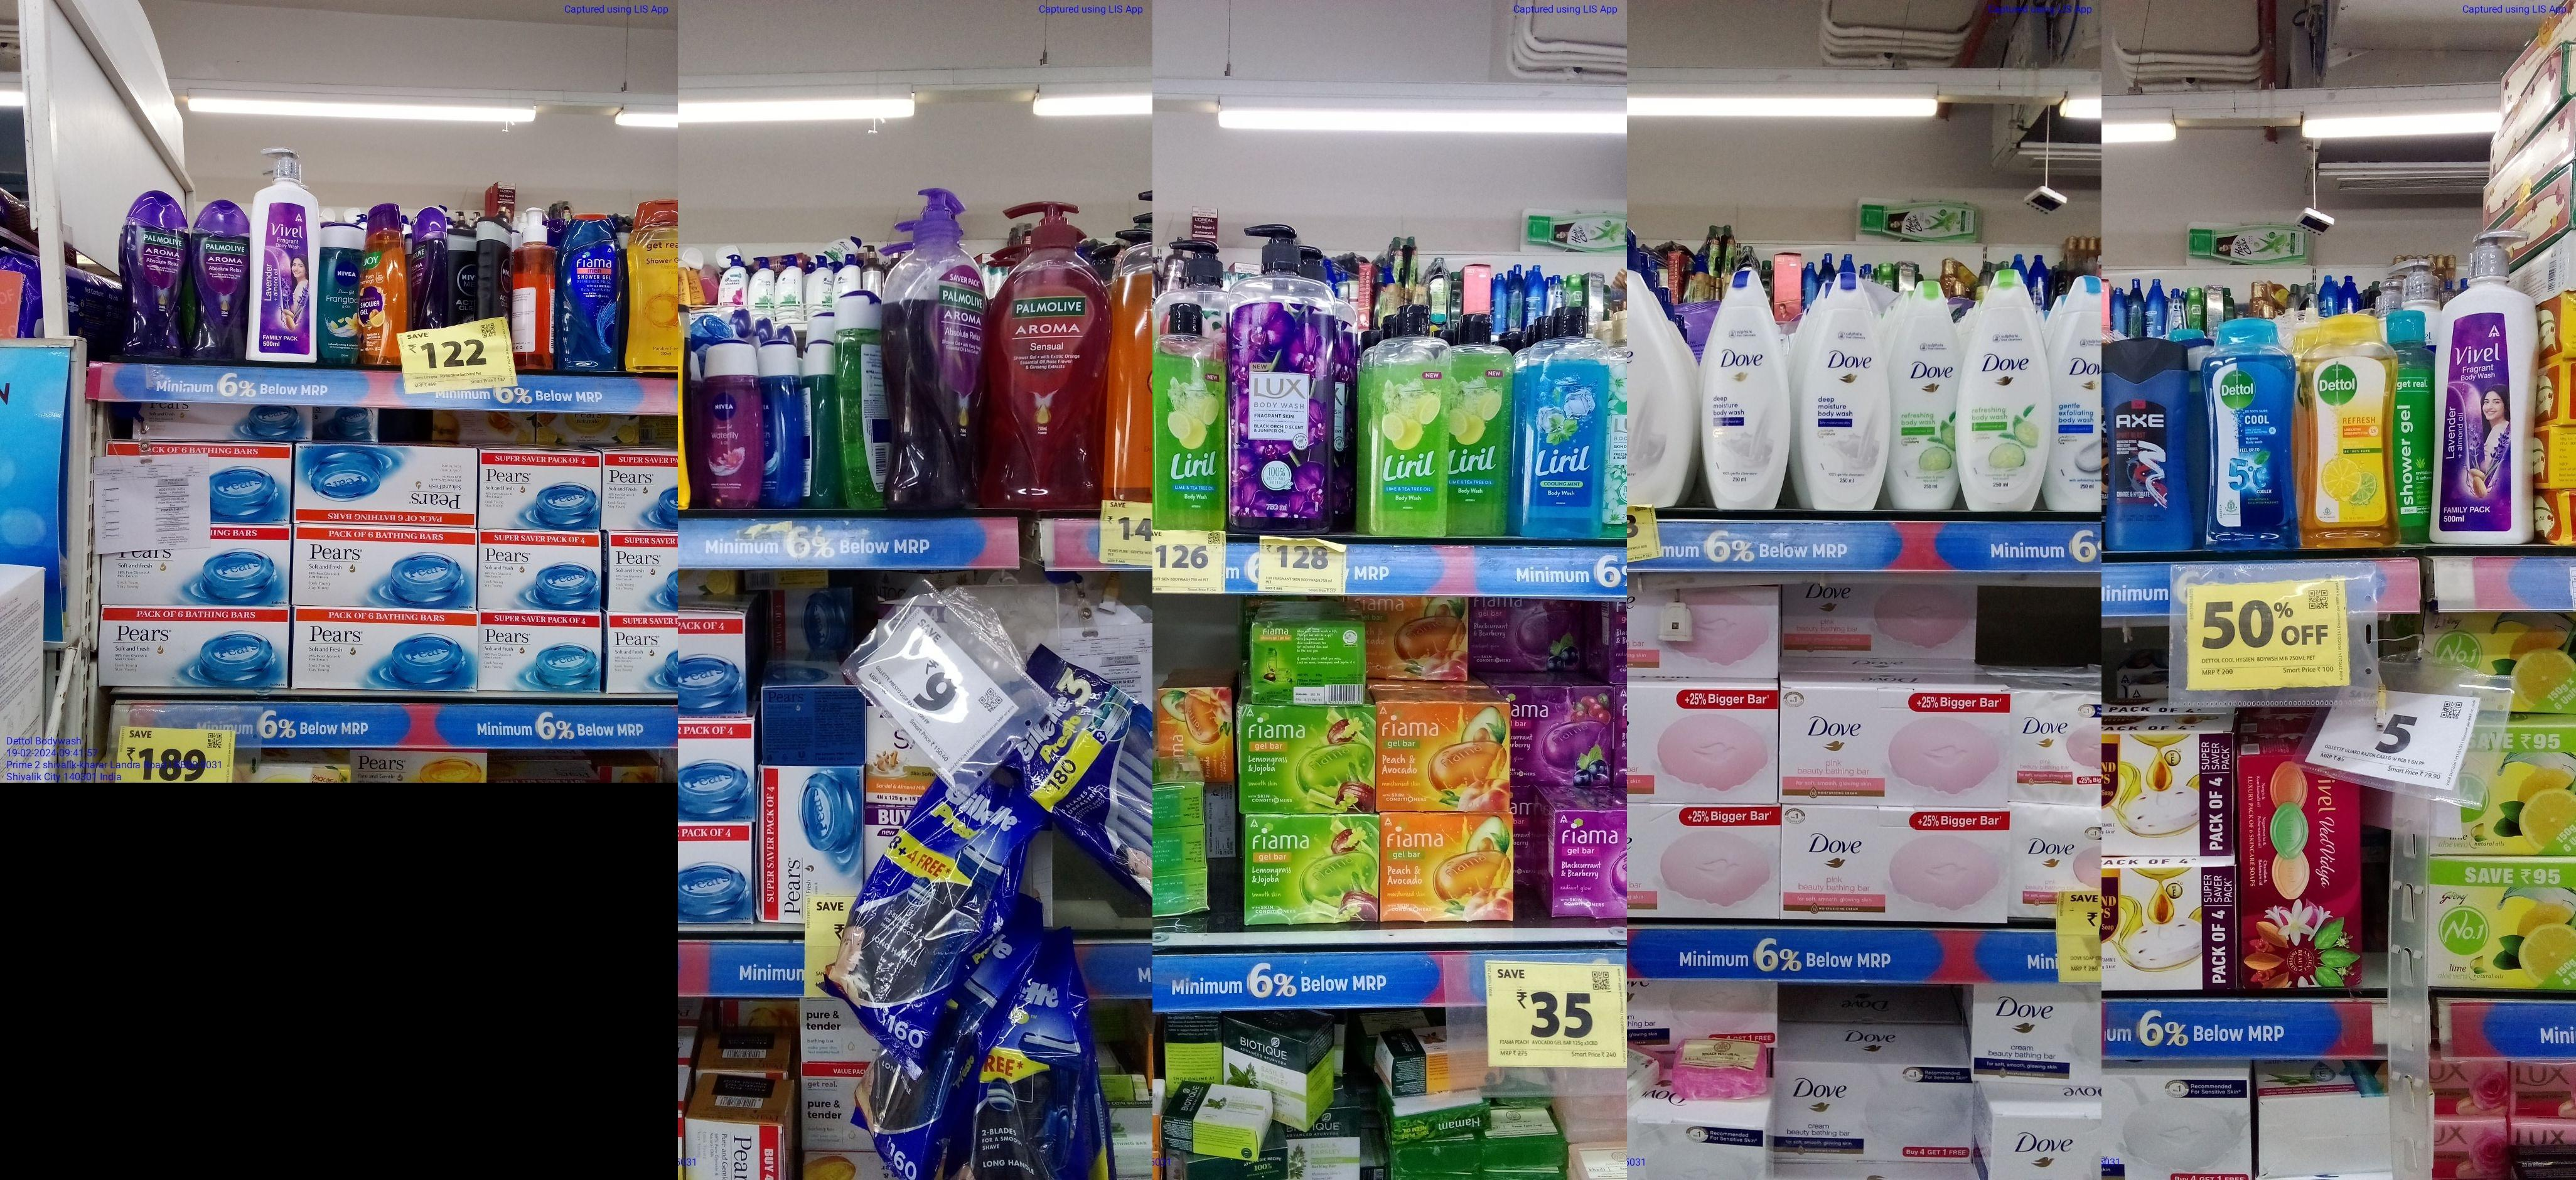Dettol_Bodywash_Cool: (2198, 316, 2303, 551)
Dettol_Bodywash_Refresh: (2303, 312, 2399, 549)
Dove_Deep_Moisture_Body_Wash_250ML: (1699, 266, 1789, 506), (1801, 271, 1889, 511)
Dove_Refreshing_Body_Wash_250ML: (1957, 265, 2049, 513)
Joy_Shower_Gel_Mandarin_and_Lemongrass_250ML: (358, 205, 409, 366)
Liril_Cooling_Mint_Body_Wash_250ML: (1526, 304, 1602, 546)
Liril_Lime_and_Tea_Tree_Oil_Body_Wash_250ML: (1368, 302, 1447, 536), (1153, 302, 1229, 529), (1449, 312, 1510, 536)
Nivea_Shower_Gel_Waterlily_and_Oil_250ML: (703, 342, 766, 511)
Palmolive_Aroma_Relax_250ML: (118, 189, 189, 358), (192, 199, 245, 362)
